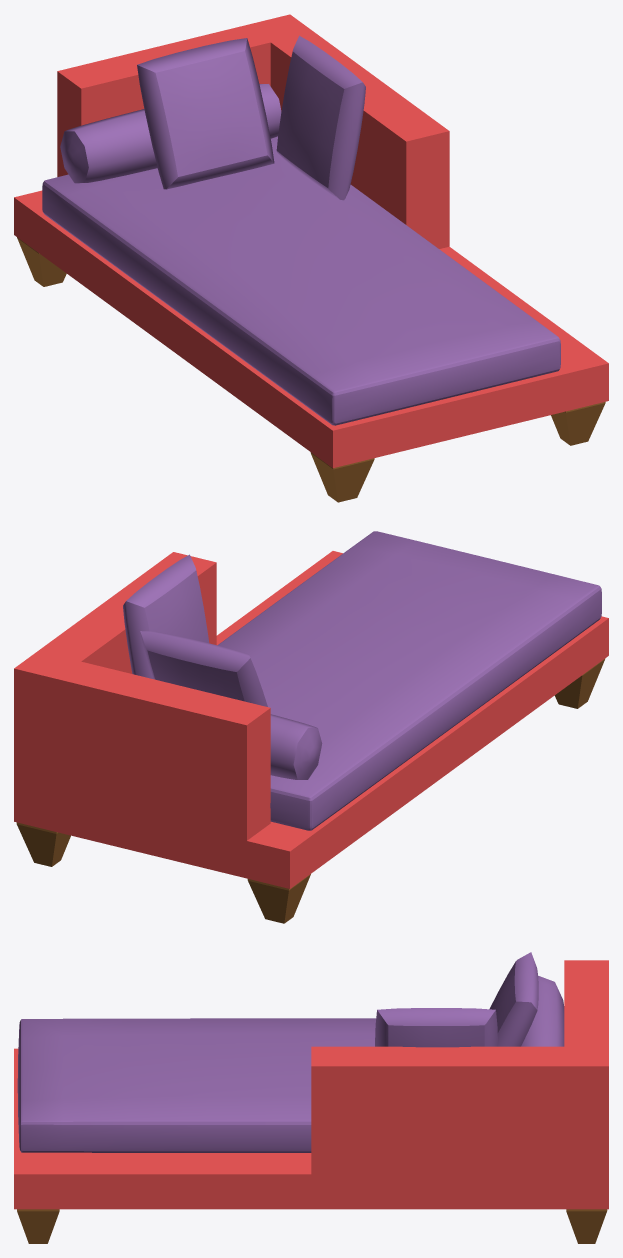
Rendered from chaise_lounge.FBX.
3 renders of one model, top to bottom at view 1: azimuth 30°, elevation 25°; view 2: azimuth 150°, elevation 25°; view 3: azimuth 270°, elevation 25°, orthographic. The views are drawn at different scales.
Visible parts, largest first — view 1: ChaiseLoungeMatress, ChaiseLoungeFrame, SquarePillow, SquarePillow001, CylinderPillow; view 2: ChaiseLoungeFrame, ChaiseLoungeMatress, SquarePillow, SquarePillow001, CylinderPillow; view 3: ChaiseLoungeFrame, ChaiseLoungeMatress, SquarePillow001, SquarePillow, CylinderPillow.
Part boxes in pixels (bbox=[...]): ChaiseLoungeMatress: bbox=[42, 136, 560, 425]; ChaiseLoungeFrame: bbox=[14, 14, 608, 502]; SquarePillow: bbox=[137, 38, 274, 189]; SquarePillow001: bbox=[276, 35, 365, 200]; CylinderPillow: bbox=[60, 84, 281, 183]; ChaiseLoungeFrame: bbox=[14, 551, 608, 923]; ChaiseLoungeMatress: bbox=[217, 531, 601, 830]; SquarePillow: bbox=[140, 631, 267, 706]; SquarePillow001: bbox=[123, 554, 209, 678]; CylinderPillow: bbox=[270, 714, 322, 779]; ChaiseLoungeFrame: bbox=[14, 960, 608, 1243]; ChaiseLoungeMatress: bbox=[17, 1018, 376, 1152]; SquarePillow001: bbox=[375, 1008, 498, 1047]; SquarePillow: bbox=[489, 952, 538, 1046]; CylinderPillow: bbox=[521, 975, 564, 1046].
Size of the model in its own units: 39.37 by 31.92 by 78.74.
